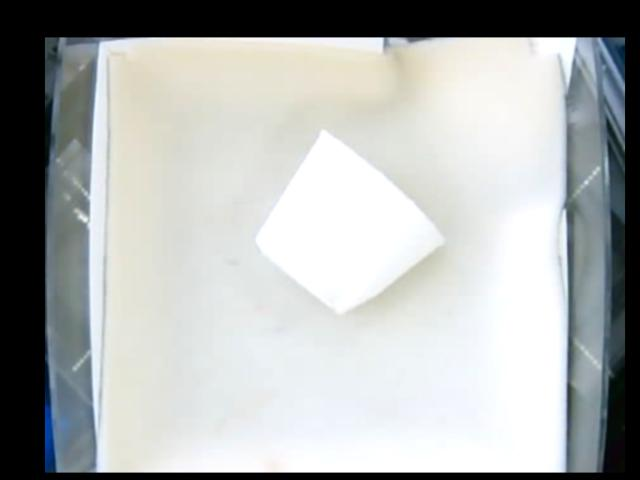Cup: (259, 131, 445, 315)
